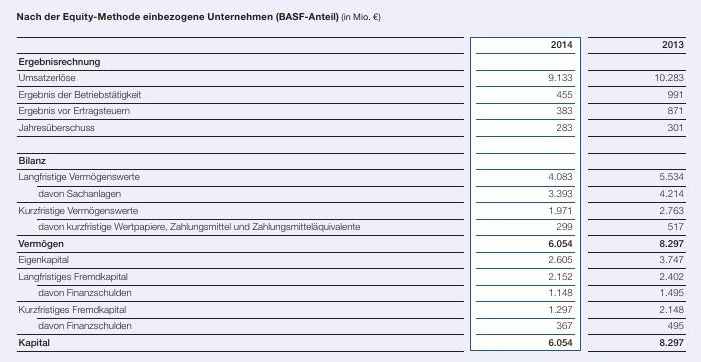table: (0, 0, 701, 362)
